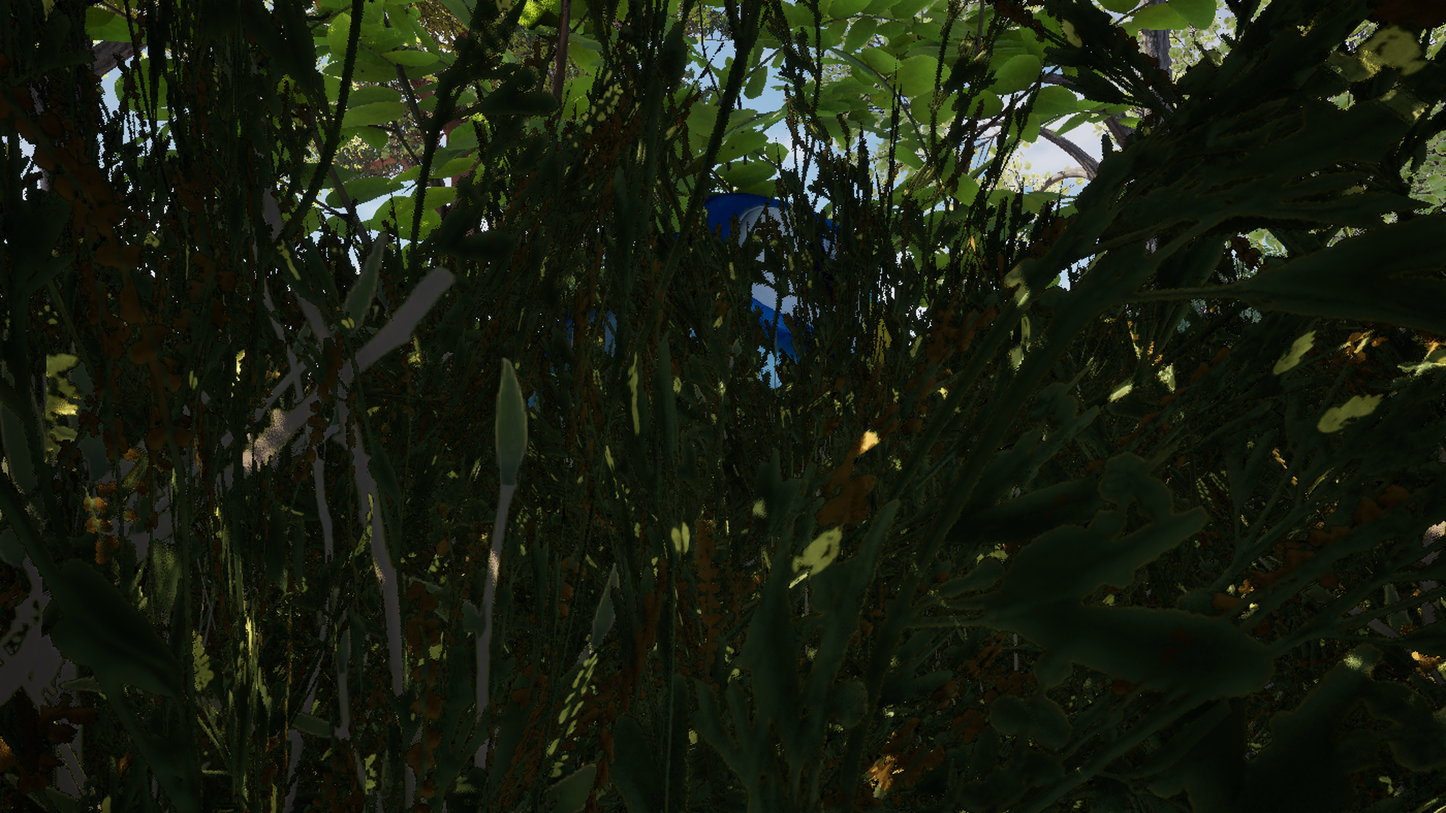Piplup: (358, 0, 1012, 813)
